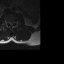CCS_severe_stenosis: (10, 21, 12, 26)
LFS_normal: (13, 20, 15, 24)
LLS_stenosis: (12, 21, 13, 25)
RFS_stenosis: (7, 20, 9, 25)
RLS_stenosis: (9, 21, 10, 25)
